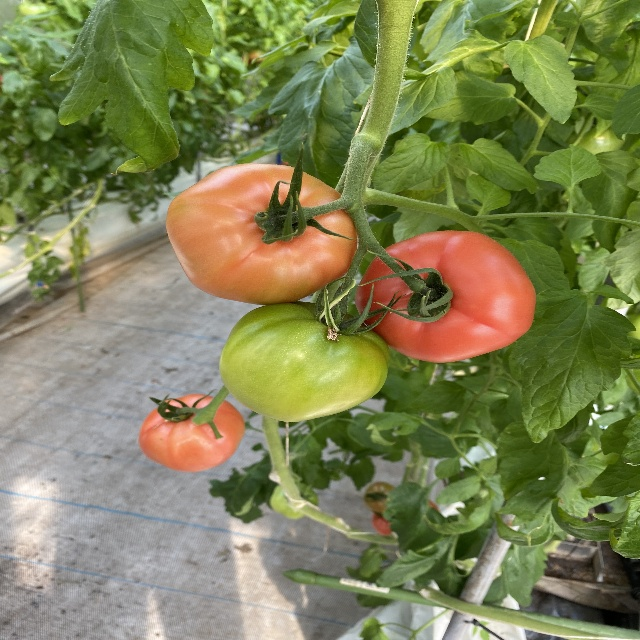b_fully_ripened: (355, 230, 537, 363)
b_green: (218, 300, 390, 423)
b_half_ripened: (166, 163, 359, 305), (139, 394, 246, 471)
